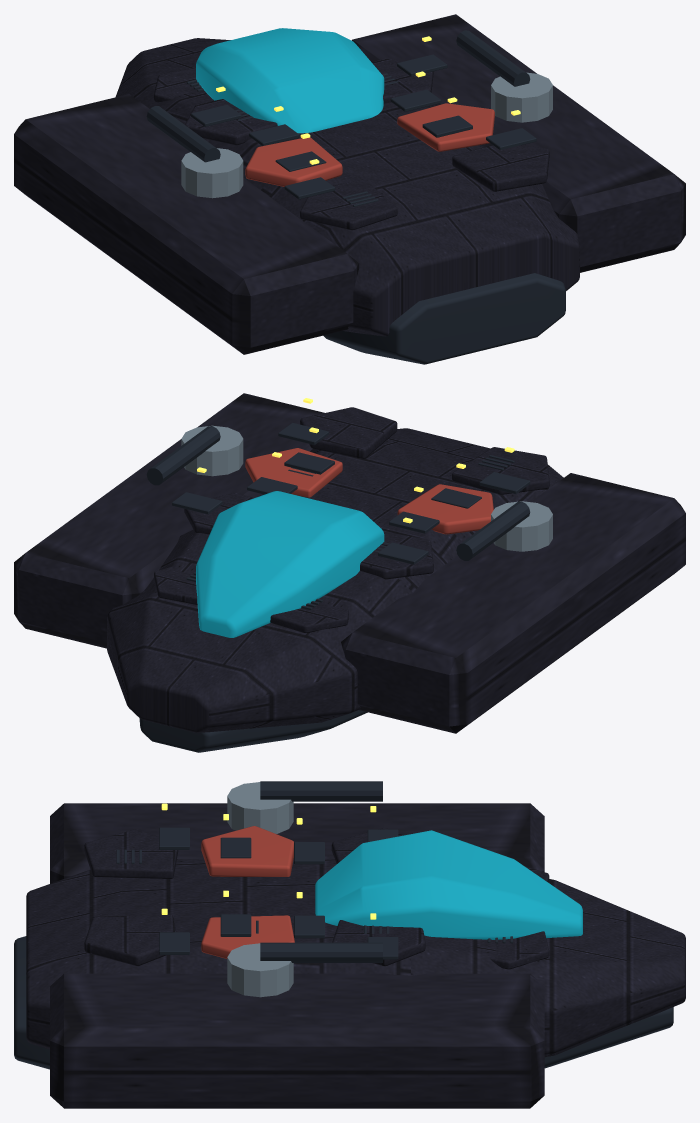
Rendered from sovereign.glb.
3 views of the same model, one above another, from view 1: azimuth 30°, elevation 25°; view 2: azimuth 150°, elevation 25°; view 3: azimuth 270°, elevation 25° (orthographic). The views are drawn at different scales.
Parts seen in each view (by area): view 1: Gôndola do motor.045 · exportação, Canhão.003 · exportação, Cabine panorâmica.022 · exportação, Colar da turbina.136 · exportação, Torreta.003 · exportação; view 2: Gôndola do motor.045 · exportação, Cabine panorâmica.022 · exportação, Canhão.003 · exportação, Colar da turbina.136 · exportação, Torreta.003 · exportação; view 3: Gôndola do motor.045 · exportação, Cabine panorâmica.022 · exportação, Canhão.003 · exportação, Colar da turbina.136 · exportação, Torreta.003 · exportação.
Part boxes in pixels (x1,y1,x2,y2): Gôndola do motor.045 · exportação: (14,14,685,354); Canhão.003 · exportação: (146,30,565,364); Cabine panorâmica.022 · exportação: (196,28,384,133); Colar da turbina.136 · exportação: (245,103,494,186); Torreta.003 · exportação: (181,72,552,198); Gôndola do motor.045 · exportação: (14,393,685,733); Cabine panorâmica.022 · exportação: (196,491,384,637); Canhão.003 · exportação: (139,423,530,752); Colar da turbina.136 · exportação: (245,448,493,534); Torreta.003 · exportação: (181,425,552,551); Gôndola do motor.045 · exportação: (26,803,685,1108); Cabine panorâmica.022 · exportação: (315,830,582,939); Canhão.003 · exportação: (14,781,673,1069); Colar da turbina.136 · exportação: (201,826,294,958); Torreta.003 · exportação: (227,782,293,997).
Bounding box in the file's own units: 45.58 × 18.03 × 54.76.
7 materials, 1 textured.
